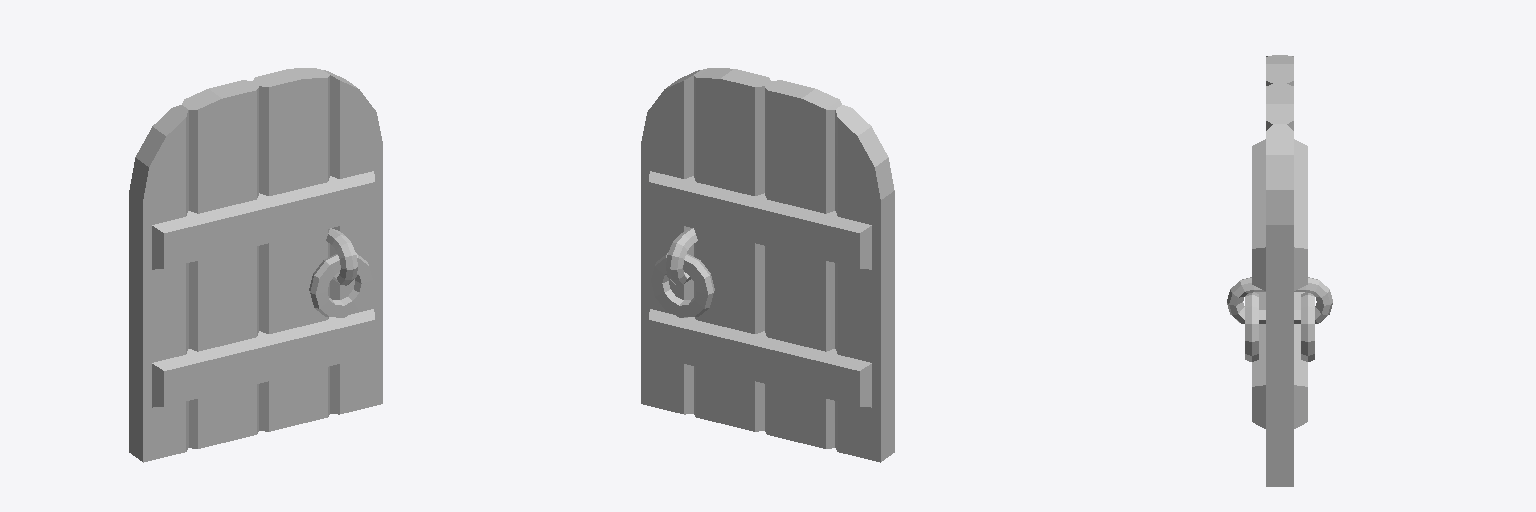
File: wall_doorway_door.obj
3 views of the same model, side by side, from view 1: azimuth 30°, elevation 25°; view 2: azimuth 150°, elevation 25°; view 3: azimuth 270°, elevation 25° (orthographic).
Parts seen in each view (by area): view 1: wall_doorway_door_Cube.13134; view 2: wall_doorway_door_Cube.13134; view 3: wall_doorway_door_Cube.13134.
Boxes of the visible parts, <box> form: wall_doorway_door_Cube.13134: <box>129,68,382,462</box>; wall_doorway_door_Cube.13134: <box>641,68,894,462</box>; wall_doorway_door_Cube.13134: <box>1227,55,1332,486</box>.
Size of the model in its own units: 2 by 2.75 by 0.7735.